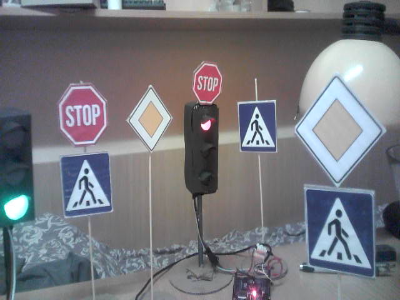crosswalk: (306, 184, 375, 277), (60, 154, 109, 212), (239, 102, 275, 151)
priority_road: (296, 78, 386, 185), (130, 88, 172, 149)
stop: (60, 86, 106, 144), (194, 65, 222, 103)
trafficlight_green: (1, 115, 32, 223)
trafficlight_red: (192, 108, 217, 192)
